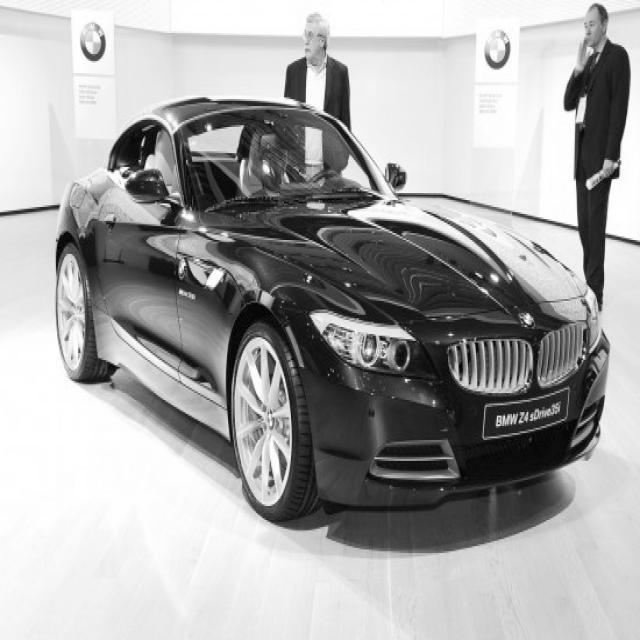car: (53, 94, 610, 523)
